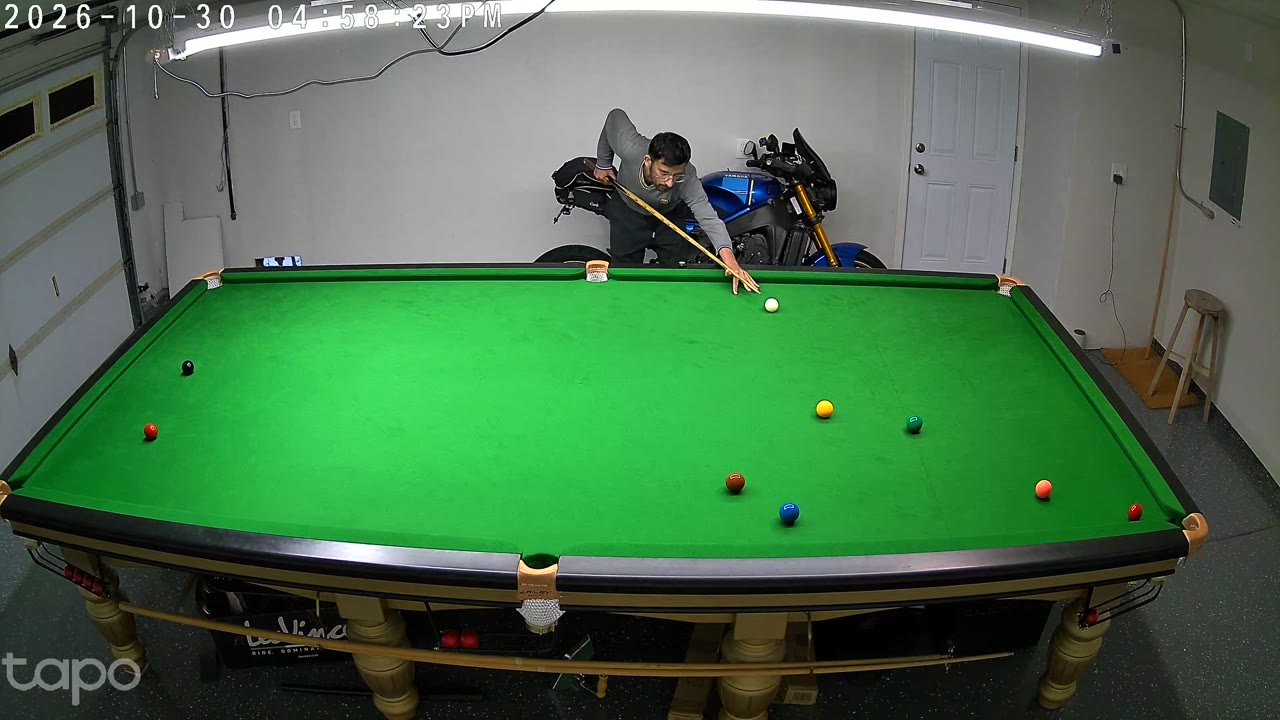black: (182, 358, 194, 378)
blue: (779, 499, 800, 528)
brown: (726, 471, 745, 497)
green: (906, 413, 922, 436)
red: (1035, 477, 1052, 502), (1127, 502, 1143, 525), (144, 422, 157, 442)
white: (765, 296, 779, 315)
yellow: (816, 400, 832, 420)
